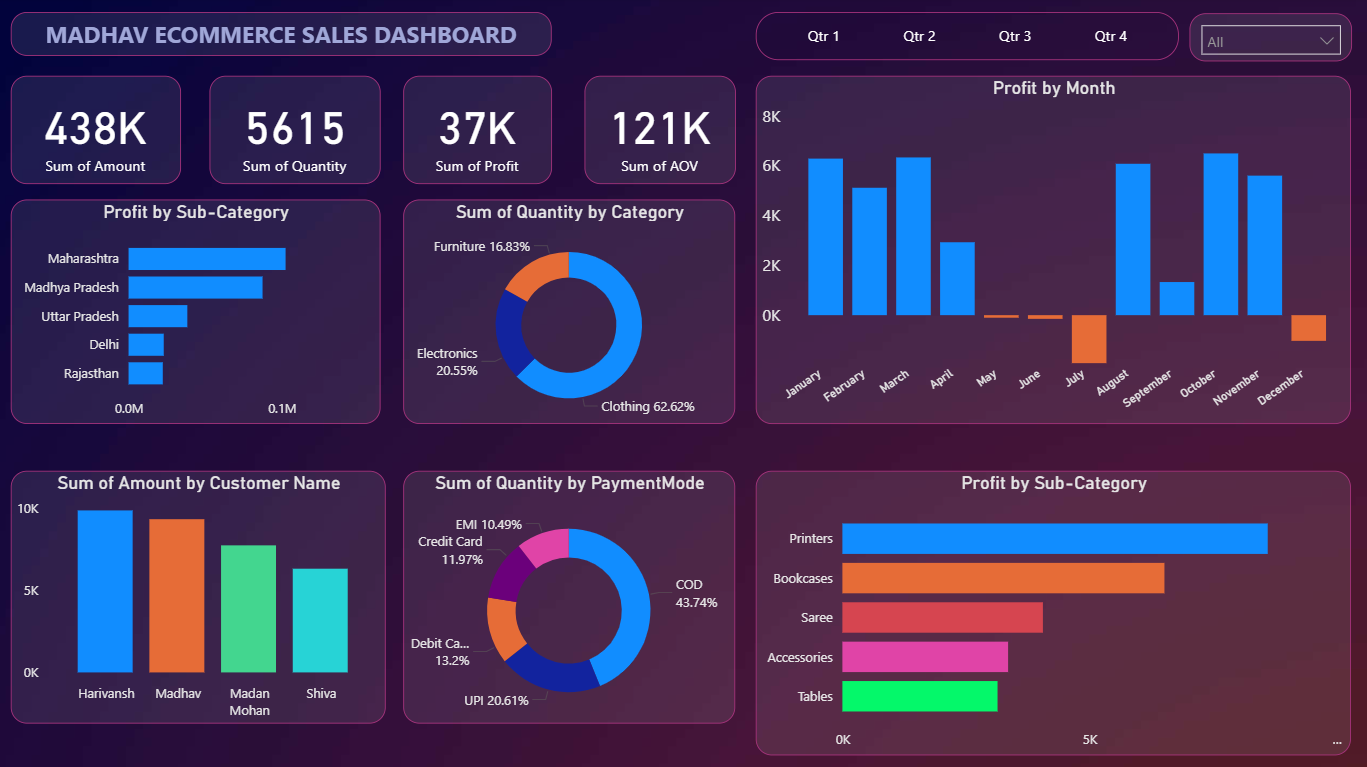

The dashboard page shown, as its layout file describes it:
{"tool":"powerbi","page":{"name":"Page 1","canvas":[1280,720],"ordinal":0},"visuals":[{"type":"columnChart","title":"Profit by Month","fields":{"Y":["Details.Profit"],"Category":["Orders.Order Date.Variation.Date Hierarchy.Month"]},"box":[706.2,73.8,553.8,323.8],"z":1000},{"type":"barChart","title":"Profit by Sub-Category","fields":{"Category":["Details.Sub-Category"],"Y":["Details.Profit"]},"box":[706.2,441.2,553.8,265],"z":2000},{"type":"donutChart","fields":{"Category":["Details.Category"],"Y":["Details.Quantity"]},"box":[377.5,188.8,308.8,208.8],"z":3000},{"type":"donutChart","fields":{"Category":["Details.PaymentMode"],"Y":["Details.Quantity"]},"box":[377.5,441.2,308.8,235],"z":4000},{"type":"card","fields":{"Values":["Details.Amount"]},"box":[12.8,73.3,158.1,101.2],"z":5000},{"type":"card","fields":{"Values":["Details.Quantity"]},"box":[197.7,73.3,159.3,101.2],"z":6000},{"type":"card","fields":{"Values":["Details.Profit"]},"box":[377.9,73.3,138.4,101.2],"z":7000},{"type":"card","fields":{"Values":["Details.AOV"]},"box":[546.5,73.3,140.7,101.2],"z":8000},{"type":"barChart","title":"Profit by Sub-Category","fields":{"Category":["Orders.State"],"Y":["Details.Amount"]},"box":[12.5,188.8,343.8,208.8],"z":9000},{"type":"columnChart","fields":{"Category":["Orders.Customer Name"],"Y":["Details.Amount"]},"box":[12.5,441.2,348.8,235],"z":10000},{"type":"slicer","fields":{"Values":["Orders.Order Date.Variation.Date Hierarchy.Quarter"]},"box":[706.2,14,393.8,45],"z":11000},{"type":"slicer","fields":{"Values":["Orders.State"]},"box":[1108.8,15,151.2,45],"z":12000},{"type":"textbox","box":[12.8,14,503.5,40.7],"z":12001}]}

Visuals, with their boxes in screenshot pixels (x1, y1, x2, y2), scaled from the page's 1280x720 canvas onto the 1367x767 screenshot:
"Profit by Month" columnChart: region(754, 79, 1346, 424)
"Profit by Sub-Category" barChart: region(754, 470, 1346, 752)
donutChart - Details.Category x Details.Quantity: region(403, 201, 733, 424)
donutChart - Details.PaymentMode x Details.Quantity: region(403, 470, 733, 720)
card - Details.Amount: region(14, 78, 183, 186)
card - Details.Quantity: region(211, 78, 381, 186)
card - Details.Profit: region(404, 78, 551, 186)
card - Details.AOV: region(584, 78, 734, 186)
"Profit by Sub-Category" barChart: region(13, 201, 381, 424)
columnChart - Orders.Customer Name x Details.Amount: region(13, 470, 386, 720)
slicer - Orders.Order Date.Variation.Date Hierarchy.Quarter: region(754, 15, 1175, 63)
slicer - Orders.State: region(1184, 16, 1346, 64)
textbox: region(14, 15, 551, 58)
